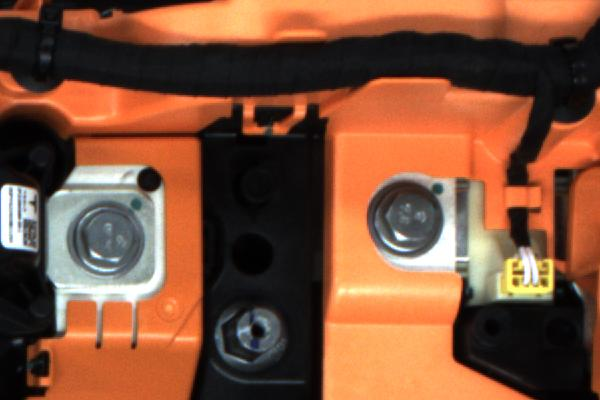nut_b: (366, 172, 448, 267), (67, 197, 153, 282)
